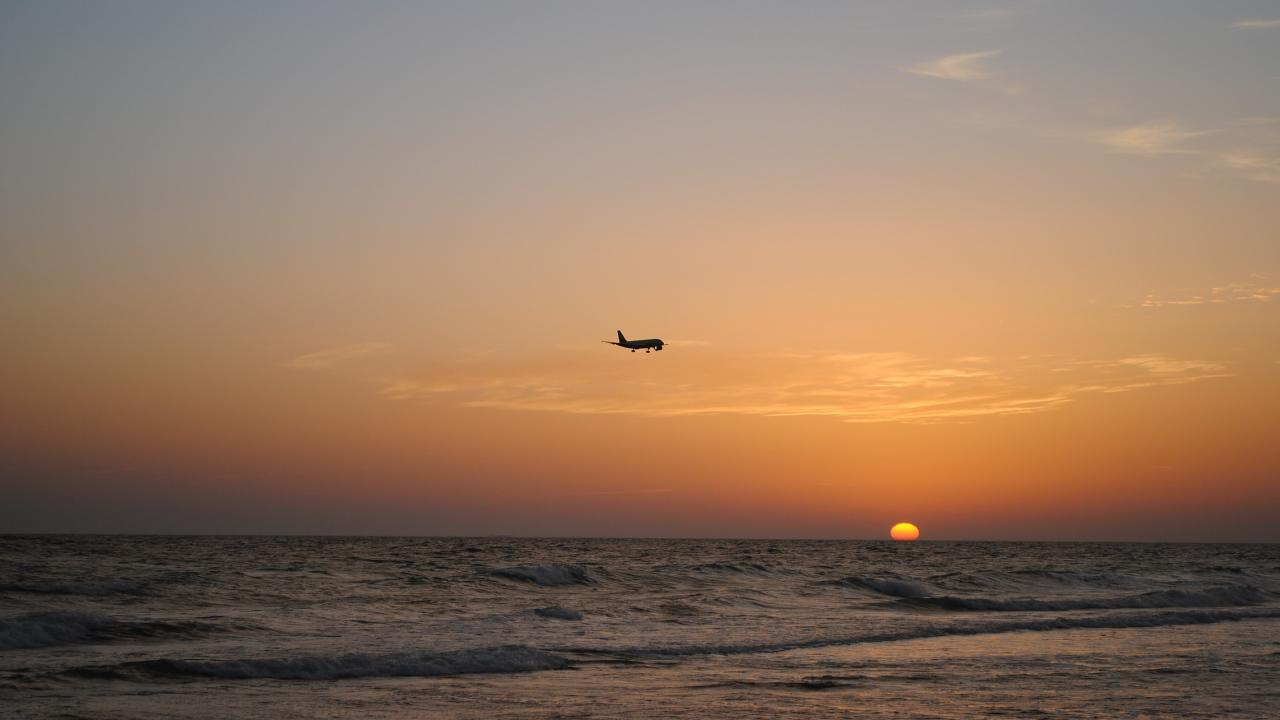Airplane: (596, 320, 678, 361)
